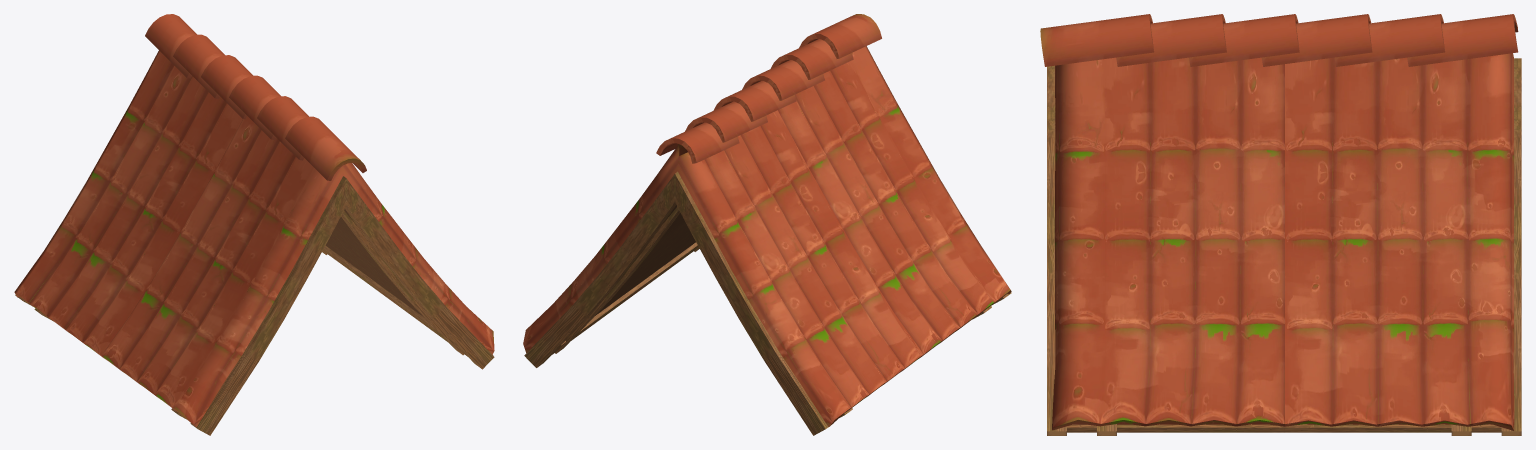
File: Roof_RoundTiles_4x4.gltf
3 renders of one model, left to right at view 1: azimuth 30°, elevation 25°; view 2: azimuth 150°, elevation 25°; view 3: azimuth 270°, elevation 25°, orthographic. The views are drawn at different scales.
Parts seen in each view (by area): view 1: Roof_RoundTiles_4x4; view 2: Roof_RoundTiles_4x4; view 3: Roof_RoundTiles_4x4.
Part boxes in pixels (bbox=[...]): Roof_RoundTiles_4x4: bbox=[14, 14, 494, 435]; Roof_RoundTiles_4x4: bbox=[523, 14, 1011, 435]; Roof_RoundTiles_4x4: bbox=[1040, 14, 1521, 435].
Size of the model in its own units: 5.51 by 4.25 by 5.56.
2 materials, 2 textured.
